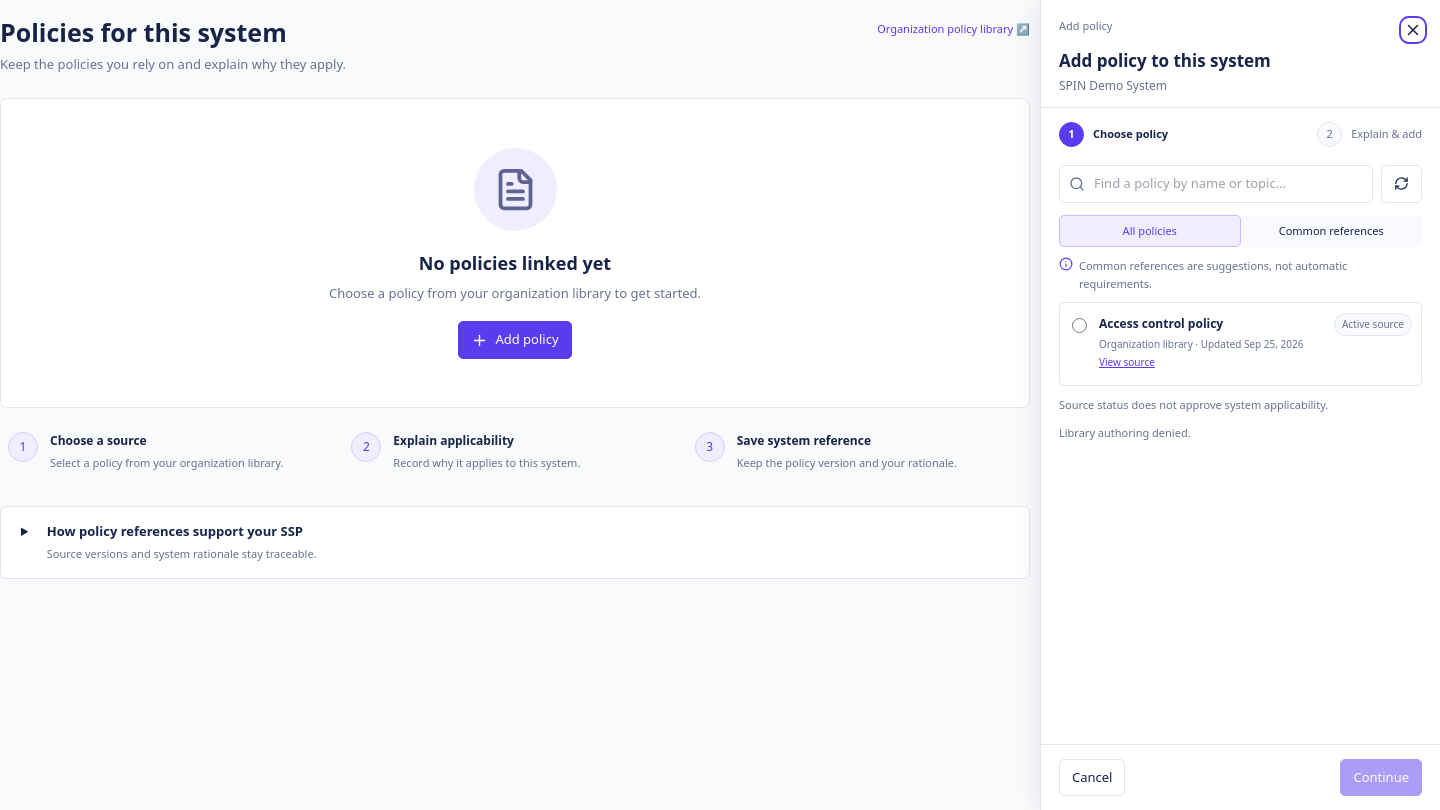
it: System policy workspace › authorizes View source independently and hides forbidden library creation
Step 1. Click the button "View source" → (1127, 363), box [1099,352,1155,373]
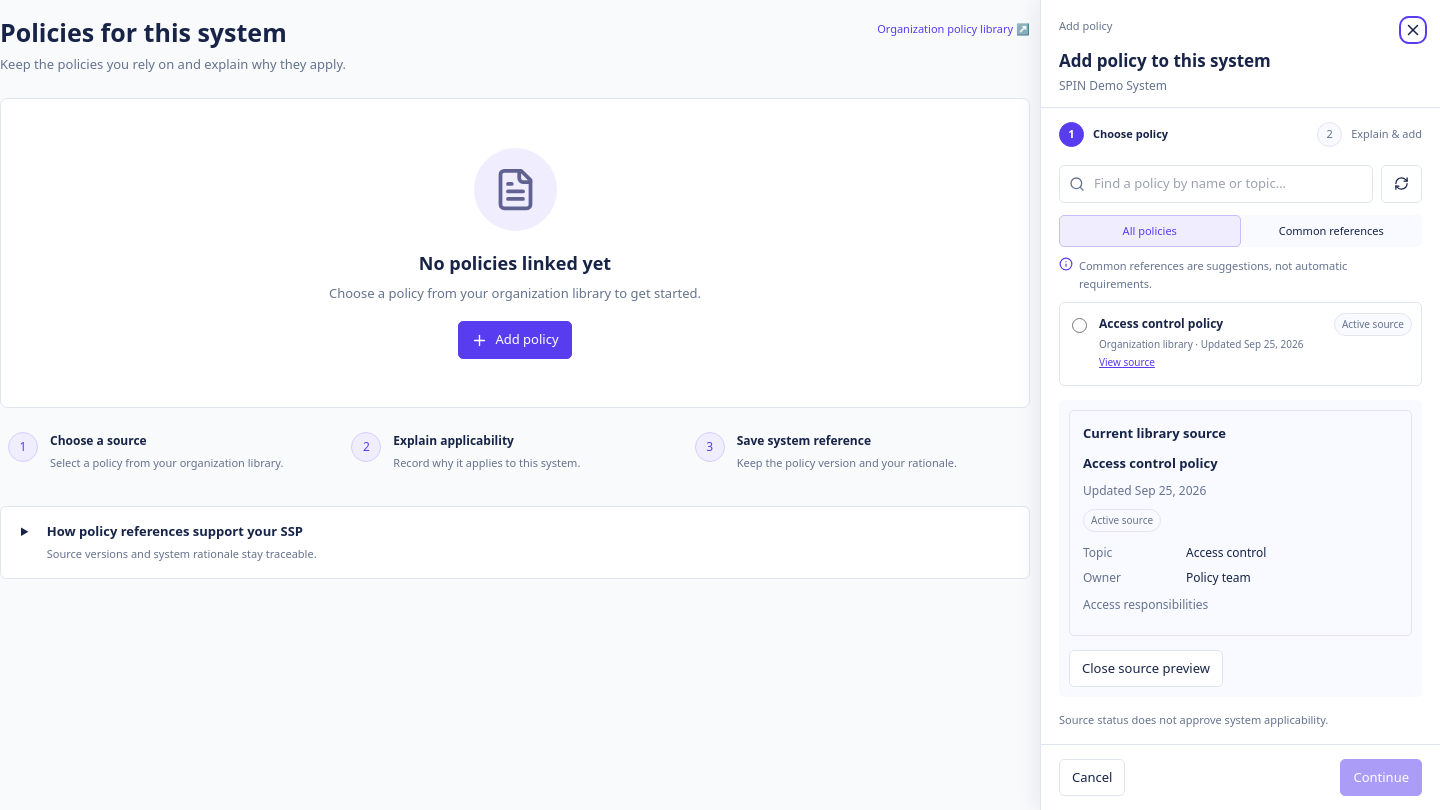
Check: the element "Current library source" is shown, box [1069,410,1412,636]
